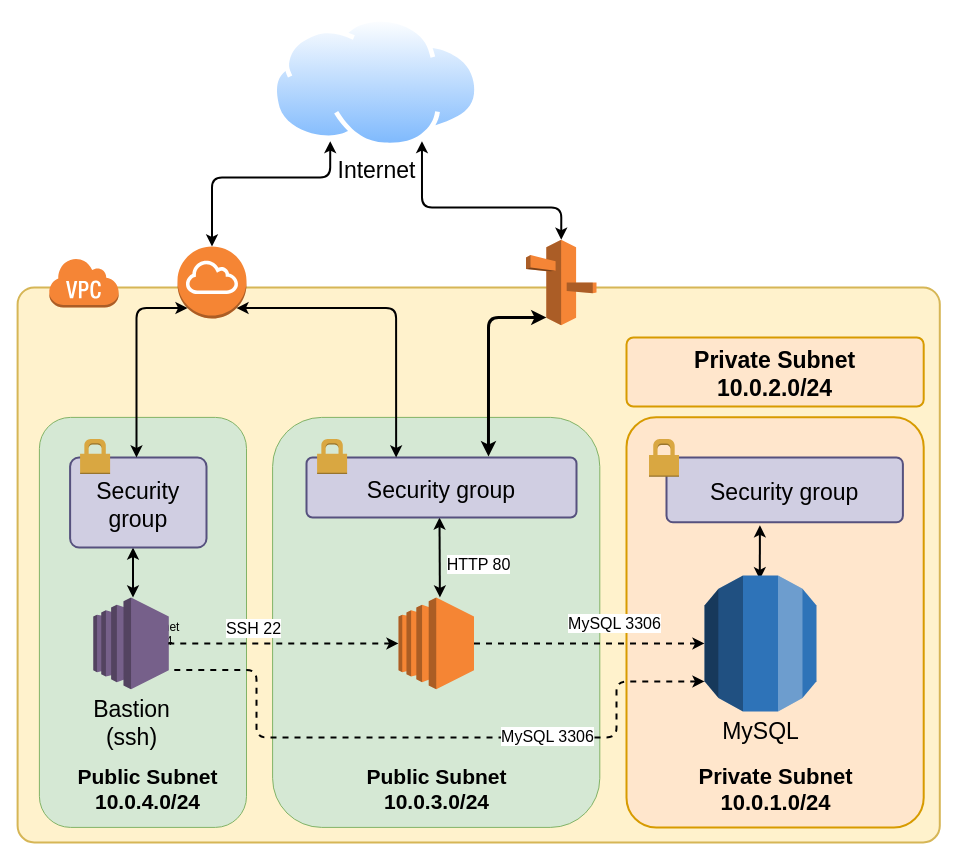
This 959x860 diagram has some shape labels left out. The box of each missing label's shape, as (x1, y1, x2, y2) in pixels:
Internet Gateway: (176, 245, 247, 319)
Route53: (525, 239, 596, 325)
WEB: (398, 596, 474, 689)
